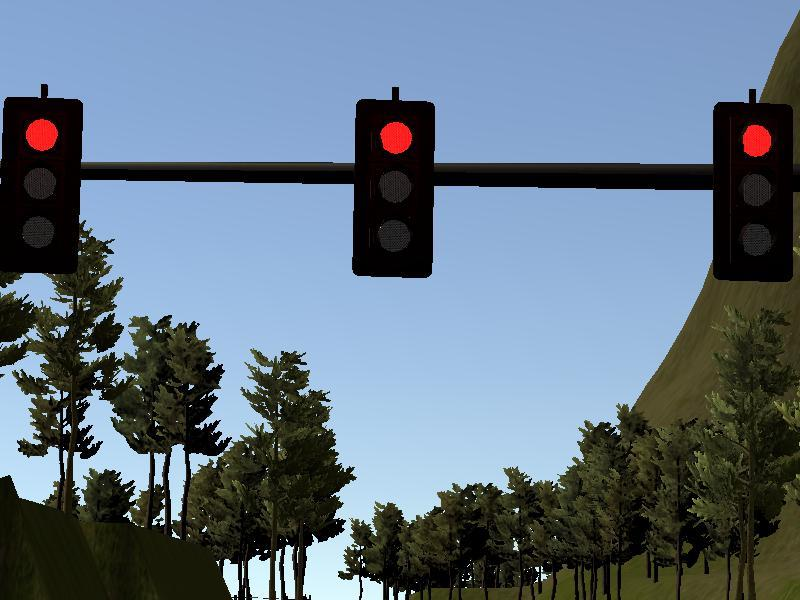Red: (714, 103, 793, 277), (355, 100, 432, 275), (5, 100, 77, 269)
